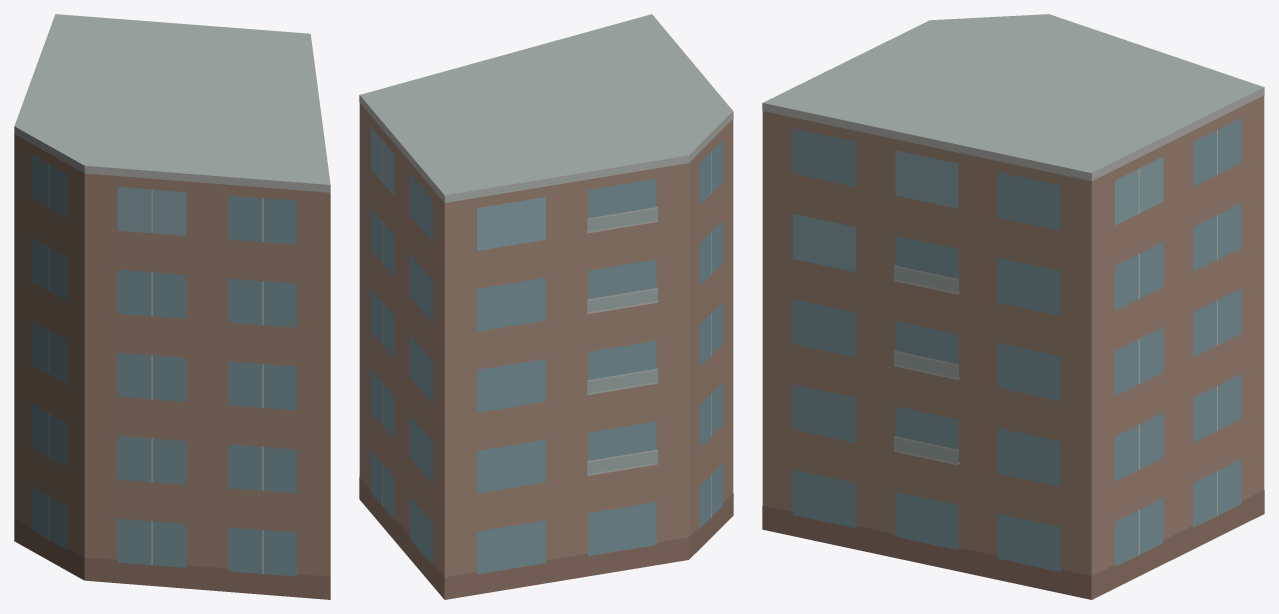
File: survey-upis-33021840.glb
The picture shows the model from 3 angles, left to right: view 1: azimuth 30°, elevation 25°; view 2: azimuth 150°, elevation 25°; view 3: azimuth 270°, elevation 25°; orthographic projection. The views are drawn at different scales.
Visible parts, largest first — view 1: survey-upis-33021840.tmp; view 2: survey-upis-33021840.tmp; view 3: survey-upis-33021840.tmp.
Part boxes in pixels (x1,y1,x2,y2): survey-upis-33021840.tmp: [14, 14, 330, 599]; survey-upis-33021840.tmp: [359, 14, 733, 599]; survey-upis-33021840.tmp: [762, 14, 1264, 599].
Bounding box in the file's own units: 10.45 × 13.05 × 13.92.
